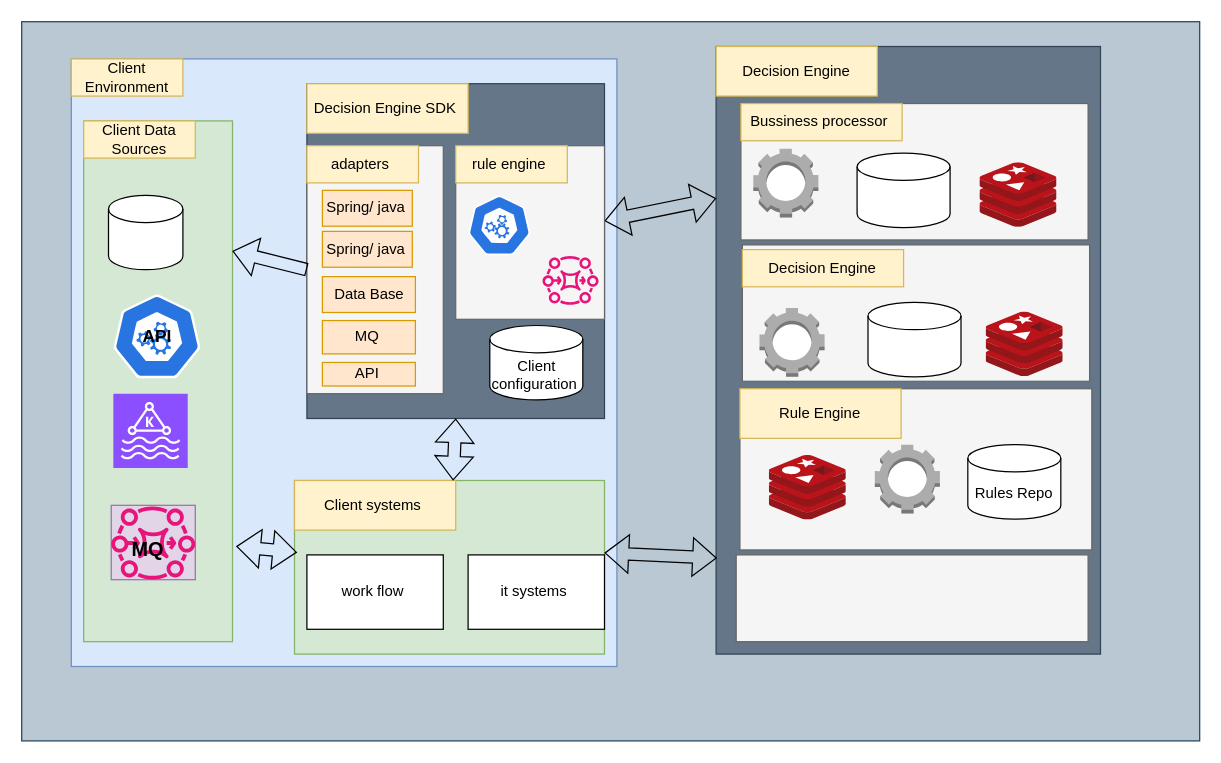
The diagram is 1221 pixels wide and 763 high, and some of its shapes have lost their labels. The shapes that lost their labels are listed below. From the top down, each one's centre as x and y in pixels, then its label:
At point 145,232: "DB".
At point 911,598: "AI & ML".
